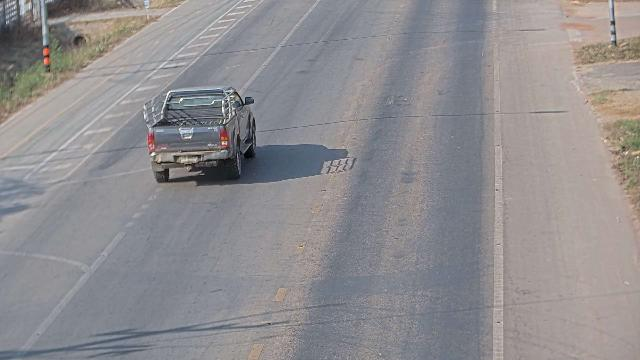pickup-truck: (142, 85, 257, 182)
